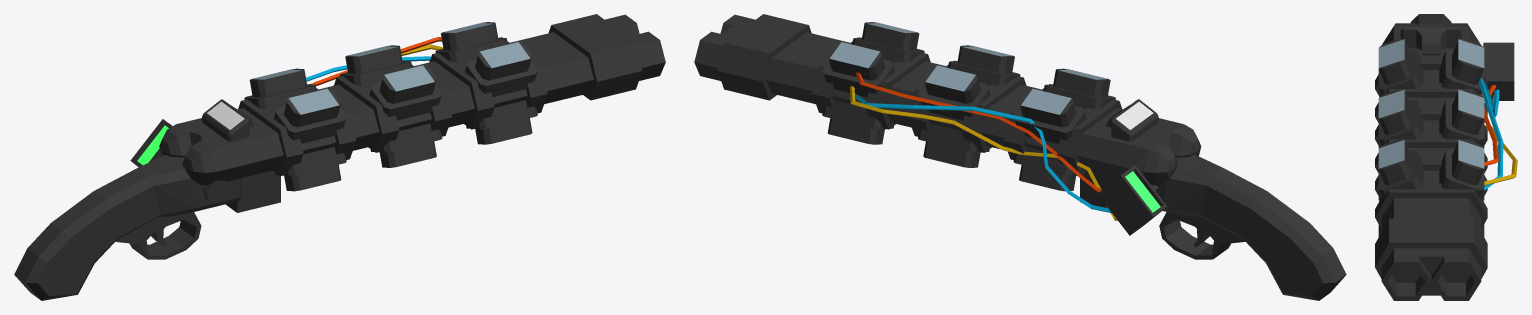
Rendered from Shotgun.fbx.
The picture shows the model from 3 angles, left to right: view 1: azimuth 30°, elevation 25°; view 2: azimuth 150°, elevation 25°; view 3: azimuth 270°, elevation 25°; orthographic projection. The views are drawn at different scales.
Parts seen in each view (by area): view 1: handle; view 2: handle; view 3: handle.
Part boxes in pixels (x1,y1,x2,y2): handle: (14, 14, 665, 300); handle: (694, 14, 1346, 300); handle: (1375, 14, 1517, 300).
Size of the model in its own units: 79.21 by 18.45 by 14.56.
